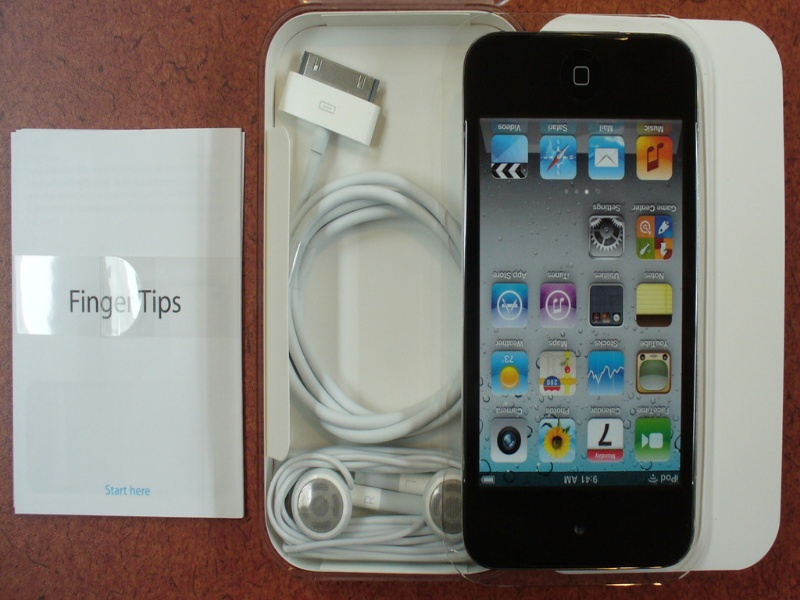cellphone: (461, 26, 709, 583)
